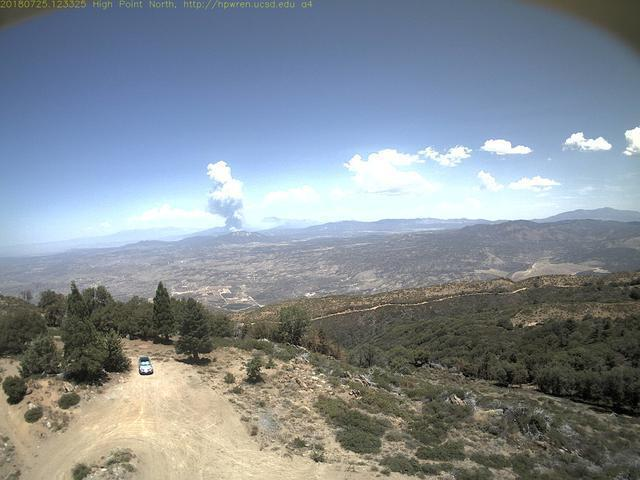Smoke: (201, 157, 257, 238)
